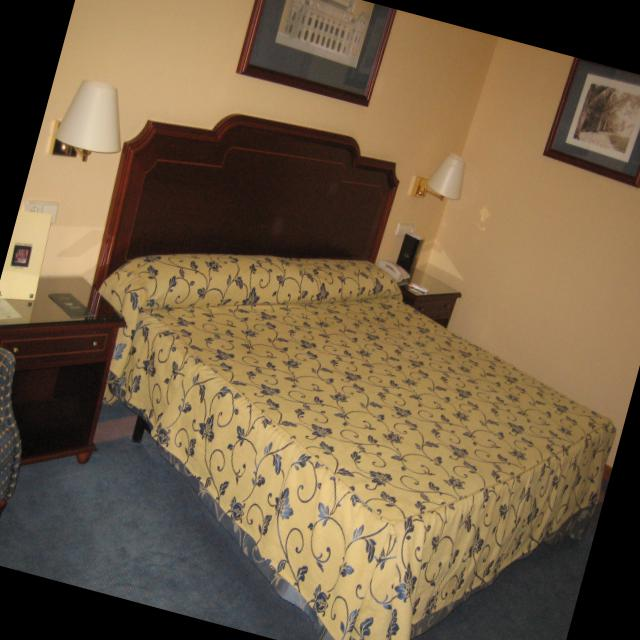armchair occluded: (0, 350, 21, 516)
bed -occluded-: (91, 111, 612, 640)
floor -X: (0, 363, 597, 640)
lamp crop: (47, 77, 121, 159), (409, 148, 465, 202)
night table: (0, 276, 125, 465), (381, 265, 460, 325)
painting crop: (235, 0, 397, 107), (541, 57, 640, 186)
wall clock: (400, 39, 640, 505)
